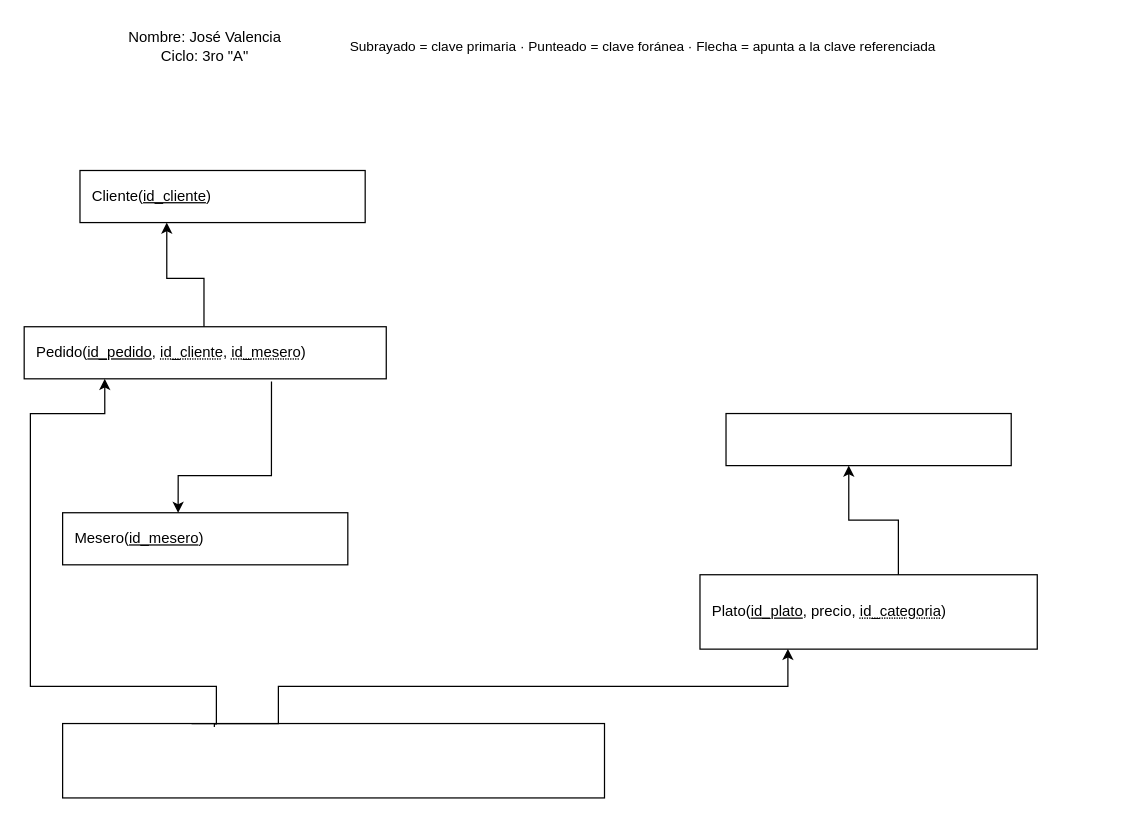
Image size: 1138x820. Some labels were removed from this diagram. Each missing label, with the box of its shape:
Categoria( id_categoria ): (725, 412, 1011, 466)
Detalle_Pedido( id_pedido , id_plato , cantidad, precio_unitario): (61, 722, 604, 798)
